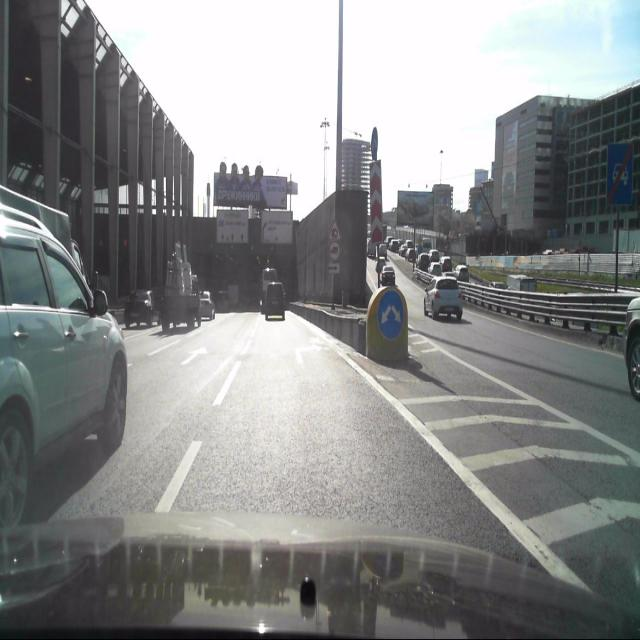road sign: (606, 141, 632, 206), (326, 220, 342, 242)
